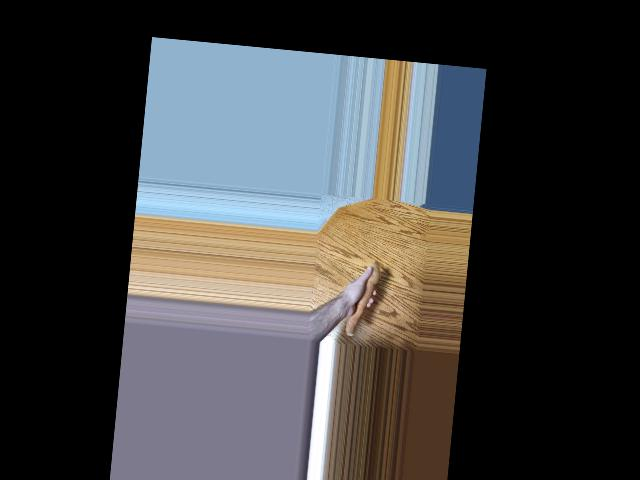sweet_potato: (342, 261, 383, 339)
